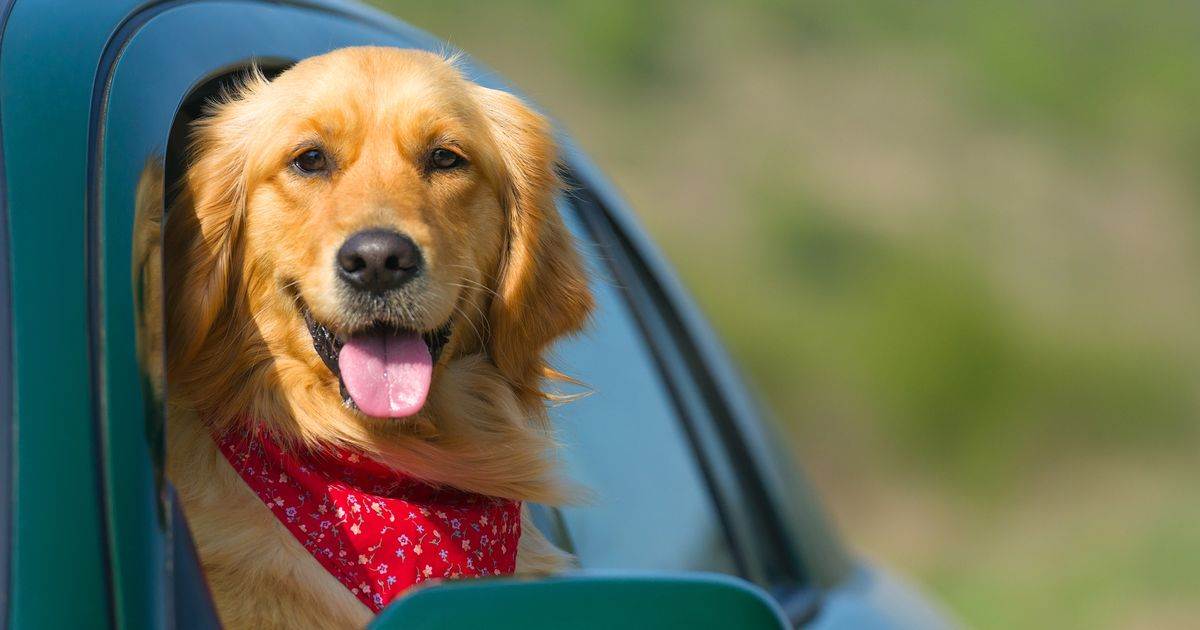dog: (172, 55, 572, 604)
